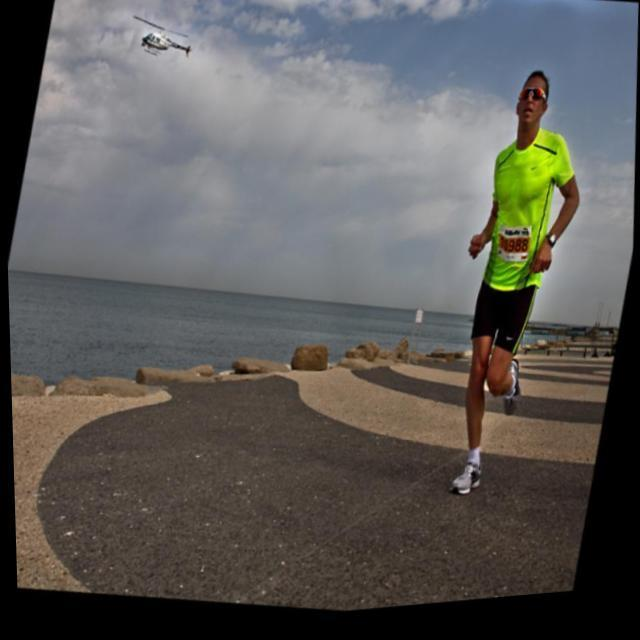dorsal: (490, 223, 541, 280)
